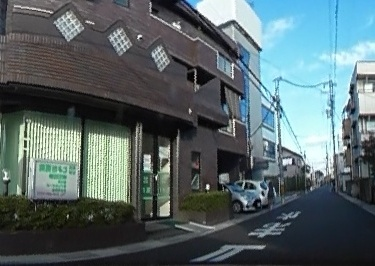person: (266, 179, 275, 207)
